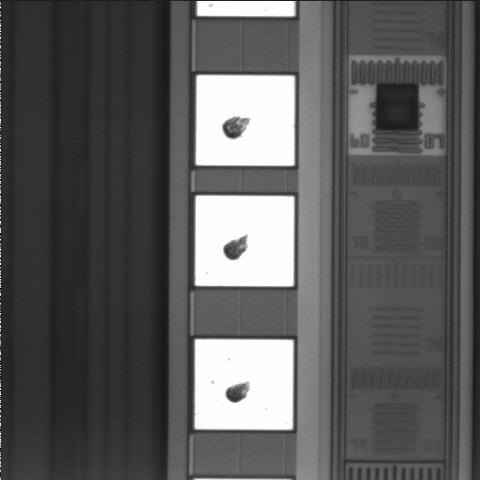pad: (196, 75, 295, 166), (195, 339, 293, 430), (195, 196, 294, 286)
